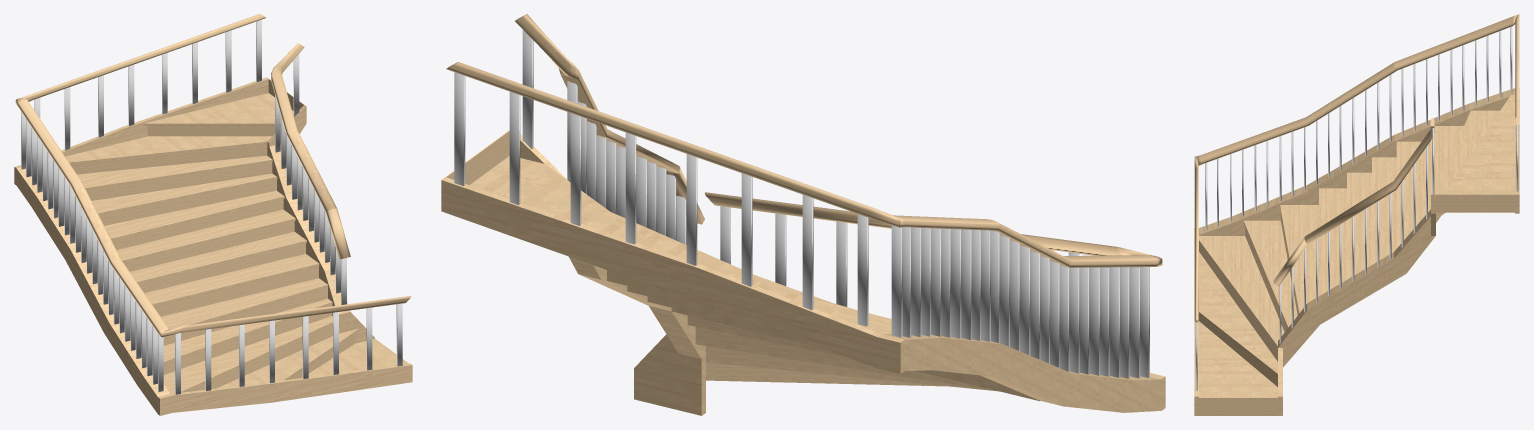
File: sh-contrib-staircase-180-long.glb
3 renders of one model, left to right at view 1: azimuth 30°, elevation 25°; view 2: azimuth 150°, elevation 25°; view 3: azimuth 270°, elevation 25°, orthographic. The views are drawn at different scales.
Parts seen in each view (by area): view 1: 2_2, 19_19, 27_27.001_27_27.004, 2_2.003; view 2: 27_27.001_27_27.004, 2_2, 2_2.003, 19_19; view 3: 2_2, 27_27.001_27_27.004, 2_2.003, 19_19.
Part boxes in pixels (x1=…): 2_2: x1=14, y1=77, x2=412, y2=415; 19_19: x1=71, y1=79, x2=355, y2=392; 27_27.001_27_27.004: x1=21, y1=19, x2=402, y2=394; 2_2.003: x1=15, y1=14, x2=411, y2=337; 27_27.001_27_27.004: x1=454, y1=29, x2=1149, y2=378; 2_2: x1=441, y1=134, x2=1165, y2=415; 2_2.003: x1=446, y1=14, x2=1162, y2=267; 19_19: x1=446, y1=130, x2=1019, y2=392; 2_2: x1=1194, y1=88, x2=1519, y2=415; 27_27.001_27_27.004: x1=1195, y1=26, x2=1518, y2=390; 2_2.003: x1=1194, y1=14, x2=1519, y2=322; 19_19: x1=1199, y1=194, x2=1514, y2=415.
Size of the model in its own units: 1 by 1 by 1.
Materials: 4 (3 with a texture image).
